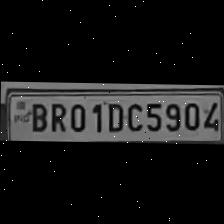0: (65, 100, 87, 132), (180, 99, 200, 128)
1: (88, 99, 104, 132)
4: (200, 97, 220, 130)
5: (142, 98, 162, 130)
9: (162, 98, 180, 130)
B: (26, 99, 48, 130)
C: (124, 99, 142, 130)
D: (102, 98, 124, 132)
R: (46, 100, 66, 132)
